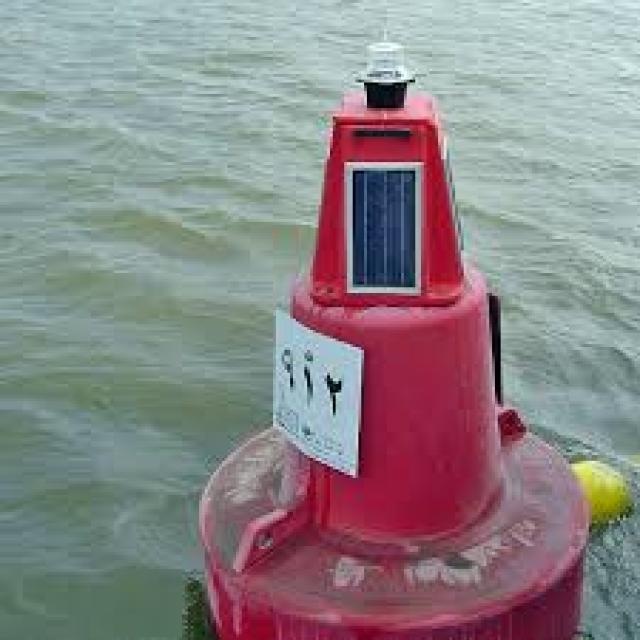2.1 lateral mark -P-: (169, 15, 610, 640)
